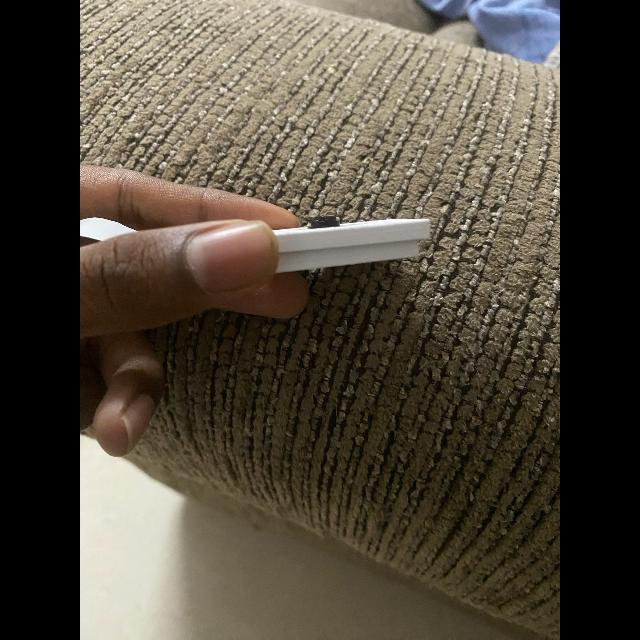RASPBERY PI CAM ENCLOSURE: (80, 217, 430, 273)
